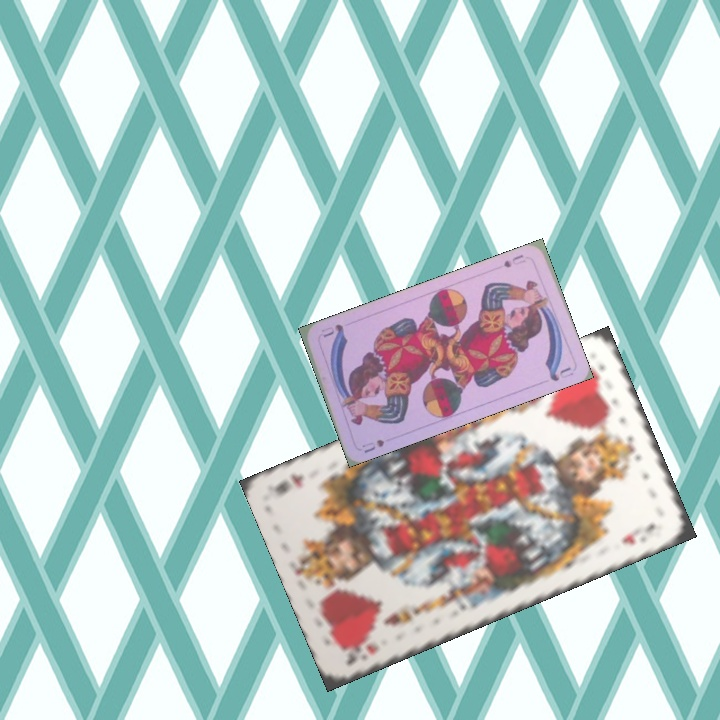HK: (338, 635, 382, 668)
SU: (358, 434, 388, 456), (499, 250, 529, 270)
